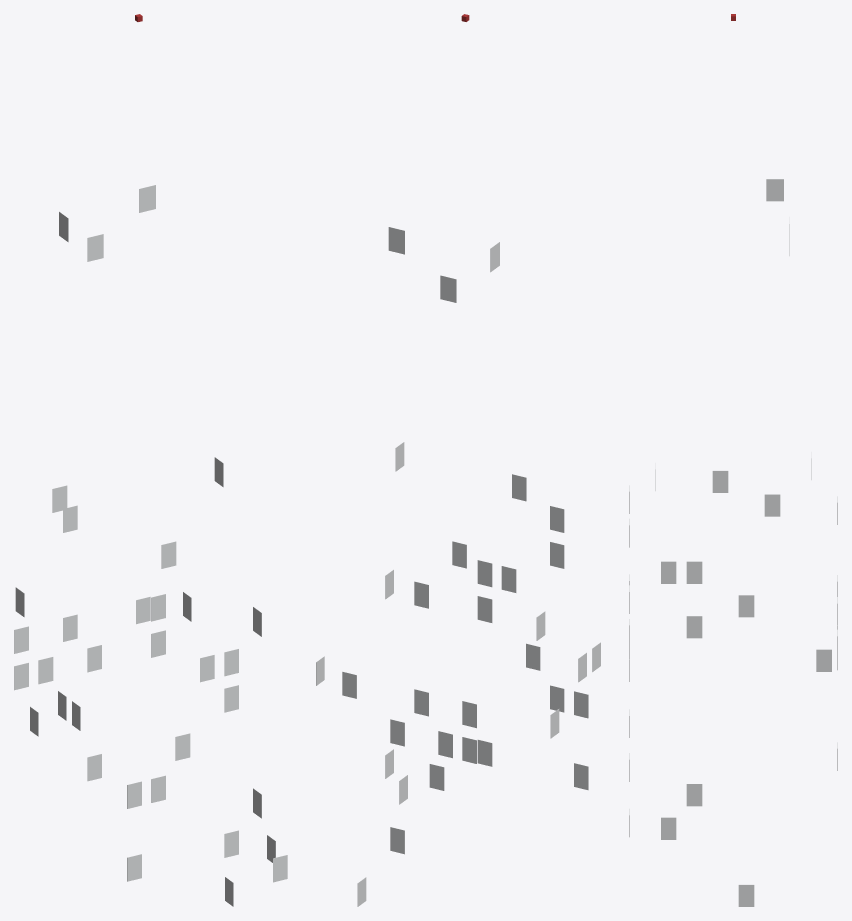
File: env_city_deco_lit.fbx
The picture shows the model from 3 angles, left to right: view 1: azimuth 30°, elevation 25°; view 2: azimuth 150°, elevation 25°; view 3: azimuth 270°, elevation 25°; orthographic projection. The views are drawn at different scales.
Parts seen in each view (by area): view 1: env_city_deco_lit; view 2: env_city_deco_lit; view 3: env_city_deco_lit.
Boxes of the visible parts, x1=… form: env_city_deco_lit: x1=14, y1=14, x2=287, y2=906; env_city_deco_lit: x1=316, y1=14, x2=600, y2=906; env_city_deco_lit: x1=629, y1=14, x2=837, y2=906.
Size of the model in its own units: 5634 by 25250 by 5634.
